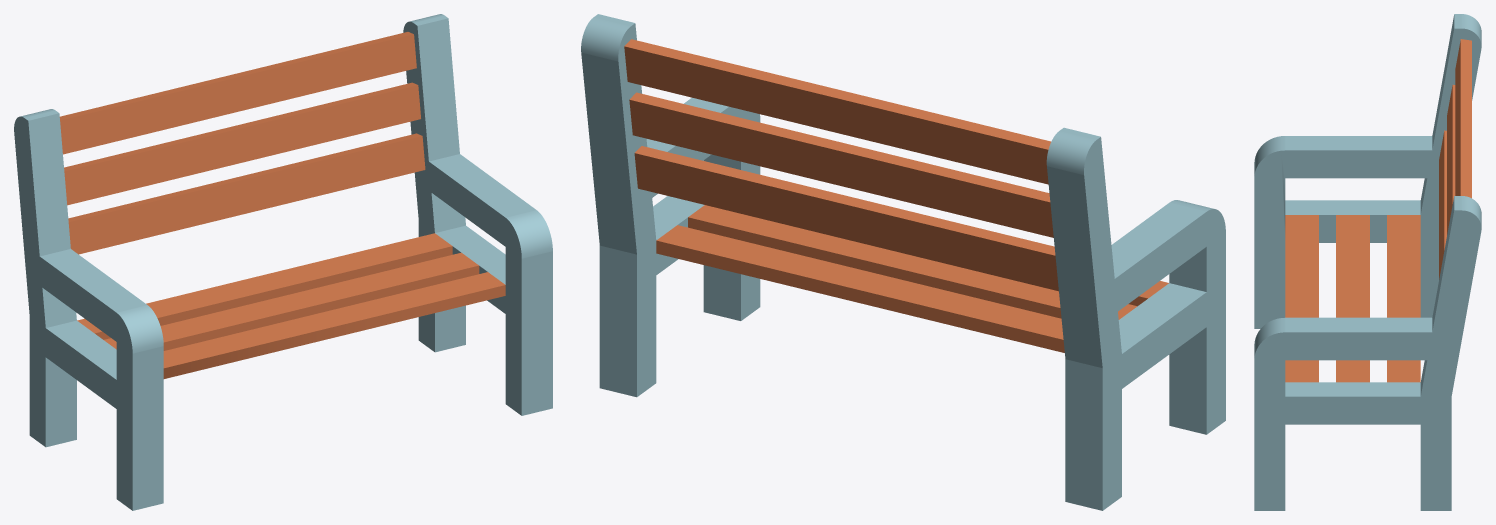
The model's file is bench.fbx.
3 views of the same model, side by side, from view 1: azimuth 30°, elevation 25°; view 2: azimuth 150°, elevation 25°; view 3: azimuth 270°, elevation 25° (orthographic). The views are drawn at different scales.
Visible parts, largest first — view 1: bench; view 2: bench; view 3: bench.
Part boxes in pixels (left/top/right/bottom): bench: left=14, top=14, right=552, bottom=510; bench: left=581, top=14, right=1225, bottom=510; bench: left=1254, top=14, right=1481, bottom=510.
Bounding box in the file's own units: 7.7 × 5.49 × 3.76.
